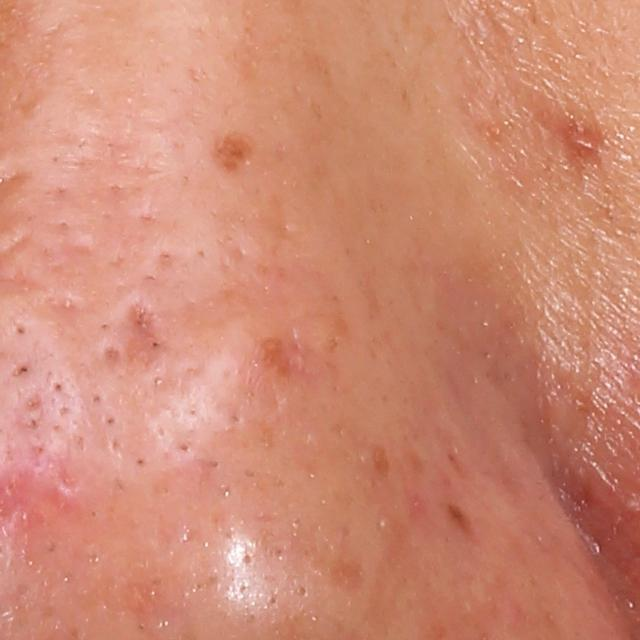atrophic_scar: (537, 108, 606, 166), (124, 299, 169, 378)
melasma: (210, 134, 267, 181)
